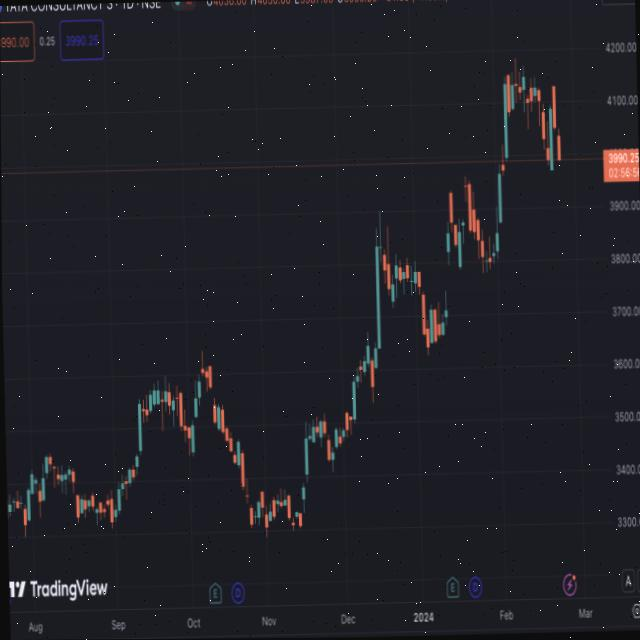Gap Down: (205, 345, 221, 444), (243, 474, 256, 544)
Gap Up: (437, 221, 457, 332), (459, 173, 469, 250)
